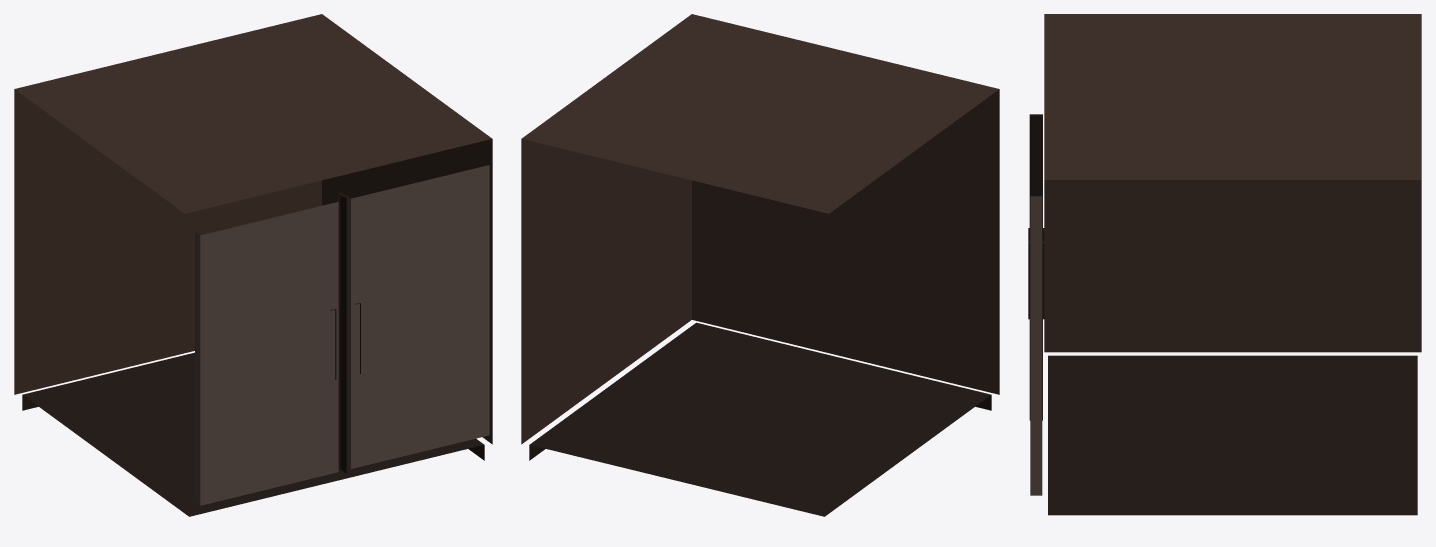
The model's file is Wardrobe-wenge.glb.
3 views of the same model, side by side, from view 1: azimuth 30°, elevation 25°; view 2: azimuth 150°, elevation 25°; view 3: azimuth 270°, elevation 25° (orthographic). The views are drawn at different scales.
Parts seen in each view (by area): view 1: Wardrobe; view 2: Wardrobe; view 3: Wardrobe.
Boxes of the visible parts, x1,y1,x2,y2 form: Wardrobe: (14,14,492,516); Wardrobe: (521,14,999,516); Wardrobe: (1028,14,1421,515).
Bounding box in the file's own units: 1 × 1 × 1.
